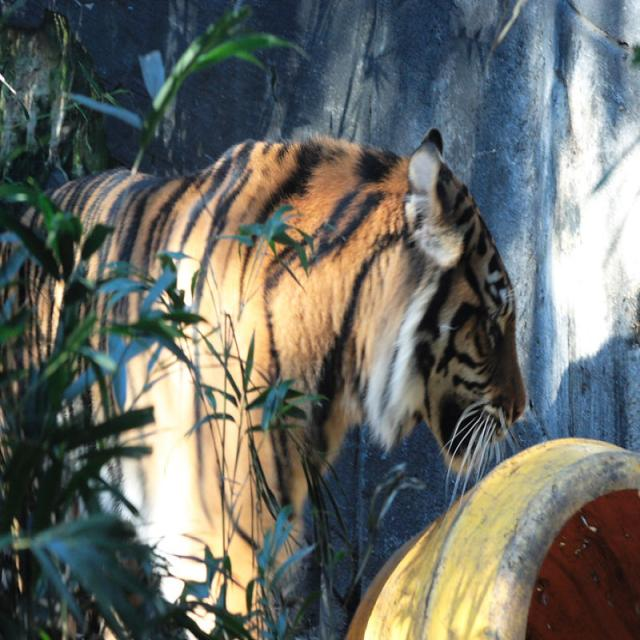Tiger: (22, 126, 528, 634)
